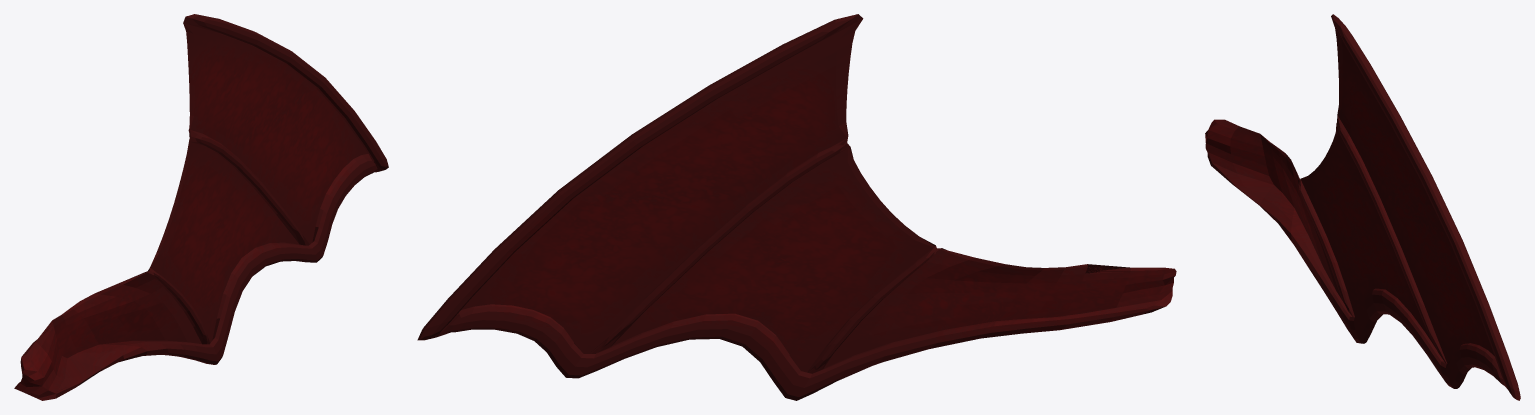
File: AD_Demon_Wing_Left.fbx
3 views of the same model, side by side, from view 1: azimuth 30°, elevation 25°; view 2: azimuth 150°, elevation 25°; view 3: azimuth 270°, elevation 25° (orthographic). The views are drawn at different scales.
Parts seen in each view (by area): view 1: D_WingsLeft; view 2: D_WingsLeft; view 3: D_WingsLeft.
Boxes of the visible parts, <box> form: D_WingsLeft: <box>14,14,388,400</box>; D_WingsLeft: <box>417,14,1176,400</box>; D_WingsLeft: <box>1205,14,1520,400</box>.
Bounding box in the file's own units: 143 × 92.77 × 85.35.
